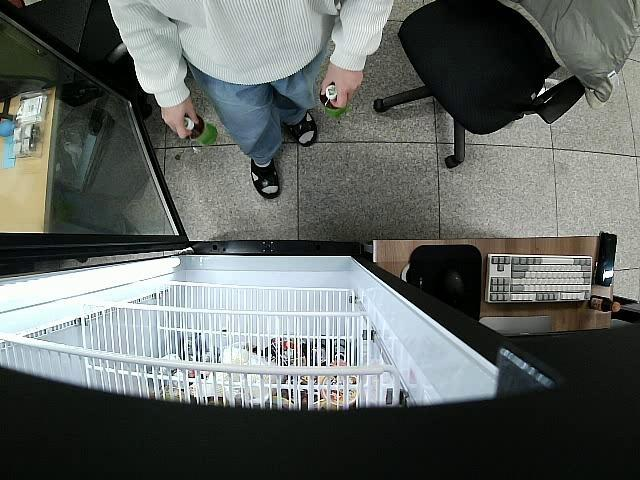19_17cha: (317, 82, 351, 120), (184, 115, 220, 149)
